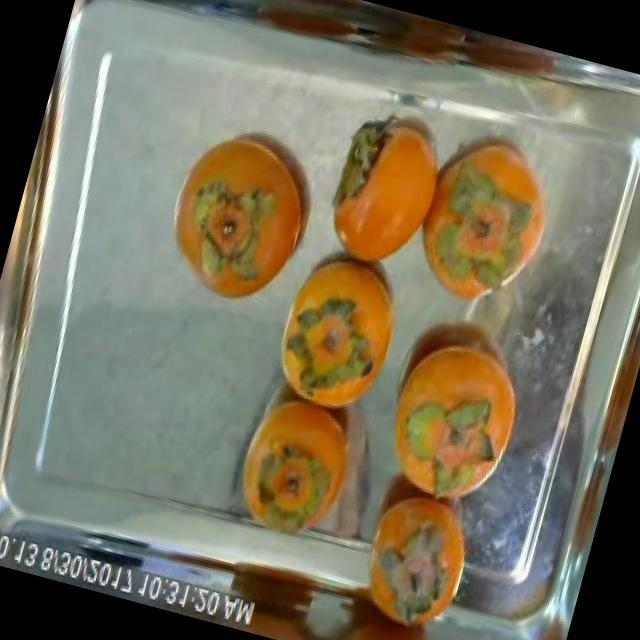Fruit: (144, 102, 338, 330), (255, 217, 420, 433), (214, 366, 382, 552)
